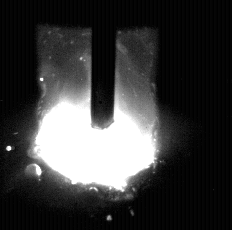arame: (92, 0, 115, 131)
poca: (34, 0, 155, 230)
